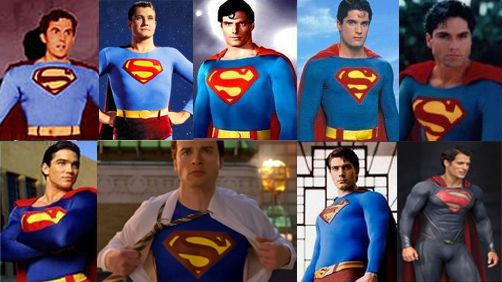bad: (429, 26, 472, 70), (49, 150, 85, 186), (341, 10, 377, 46), (41, 18, 77, 54), (217, 14, 253, 50)
